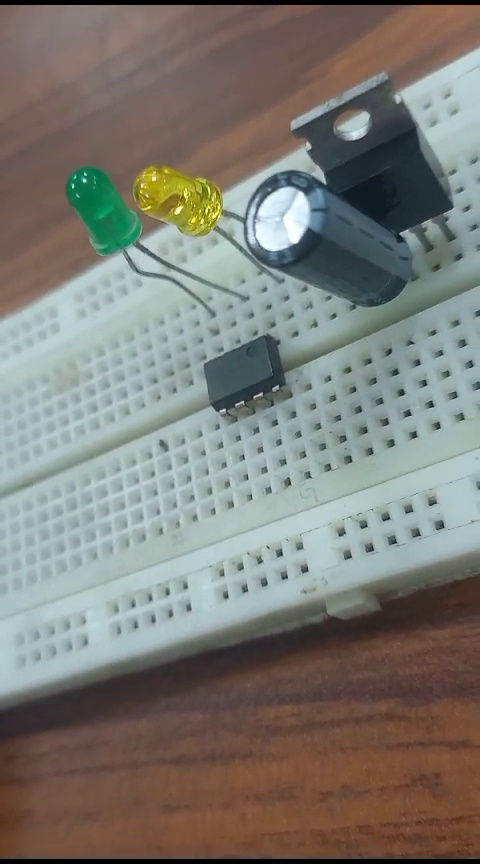IC: (182, 339, 298, 408)
LED: (131, 143, 238, 253), (50, 168, 143, 264)
capacitor: (250, 176, 415, 308)
voltage regulator: (290, 71, 456, 220)
